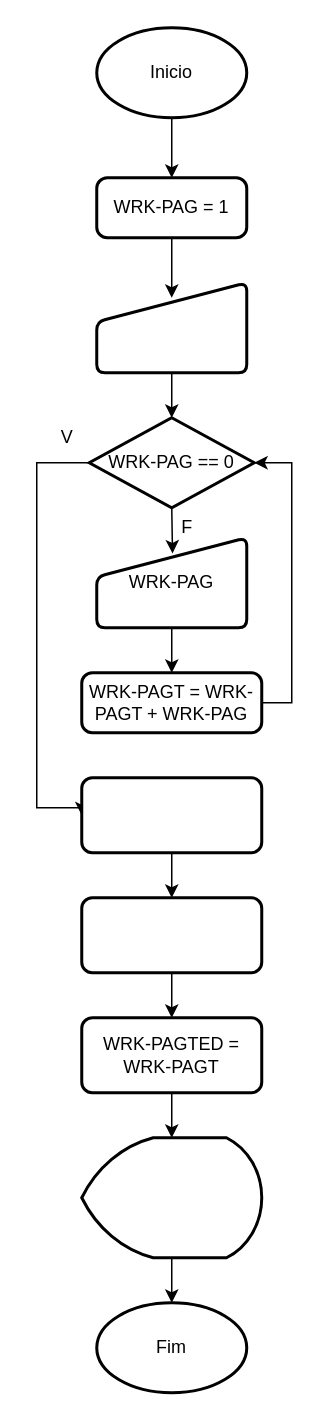
Image size: 330x1419. Some labels were removed from this diagram. Each missing label, with the centre of its shape:
"WRK-SALDO" belongs at pixel 171 327.
"WRK-SALDOED = WRK-SALDO" belongs at pixel 171 935.
"WRK-SALDOED WRK-PAGTED WRK-SALDOF" belongs at pixel 171 1197.
"WRK-SALDOF = WRK-SALDO - WRK-PAGF" belongs at pixel 171 815.
